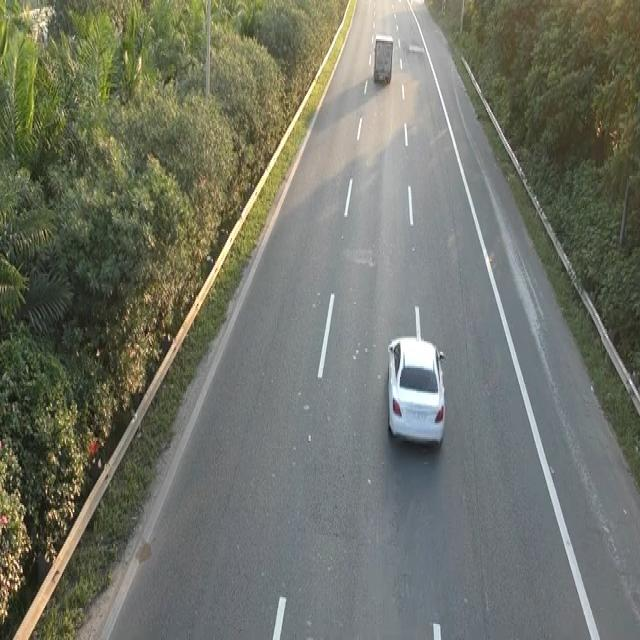bus: (383, 304, 448, 452)
minivan: (371, 32, 394, 85)
